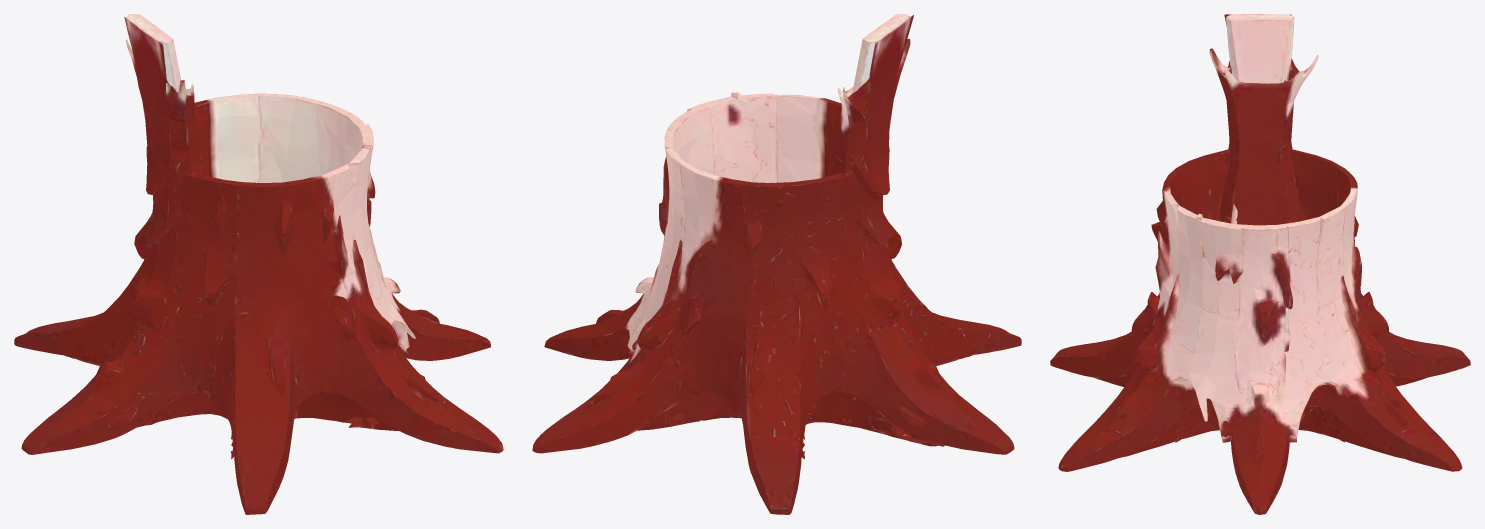
Rendered from stump.glb.
The picture shows the model from 3 angles, left to right: view 1: azimuth 30°, elevation 25°; view 2: azimuth 150°, elevation 25°; view 3: azimuth 270°, elevation 25°; orthographic projection. The views are drawn at different scales.
Parts seen in each view (by area): view 1: geometry_0; view 2: geometry_0; view 3: geometry_0.
Part boxes in pixels (x1,y1,x2,y2): geometry_0: (14,14,503,514); geometry_0: (532,14,1021,514); geometry_0: (1050,14,1470,514).
Size of the model in its own units: 1 by 0.8227 by 0.8909.
1 material, 1 textured.
